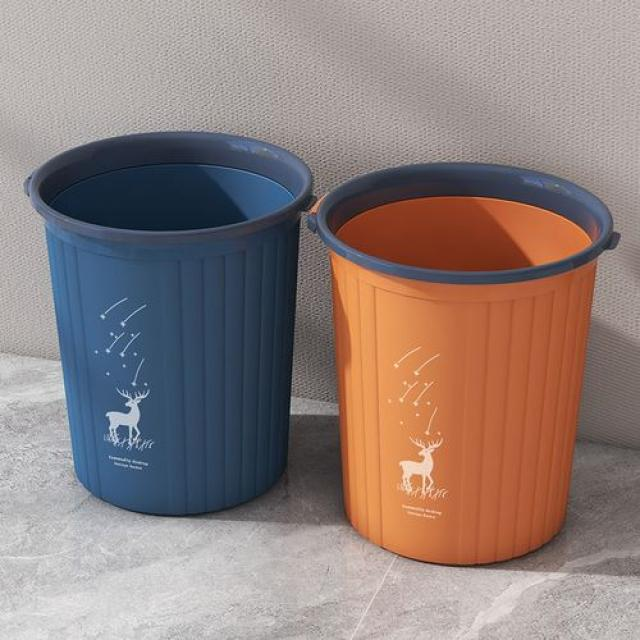dustbin: (305, 157, 624, 572), (23, 124, 318, 521)
